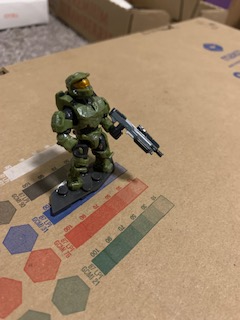chief: (48, 70, 124, 193)
rifle: (109, 108, 165, 160)
spartan: (46, 68, 122, 191)
